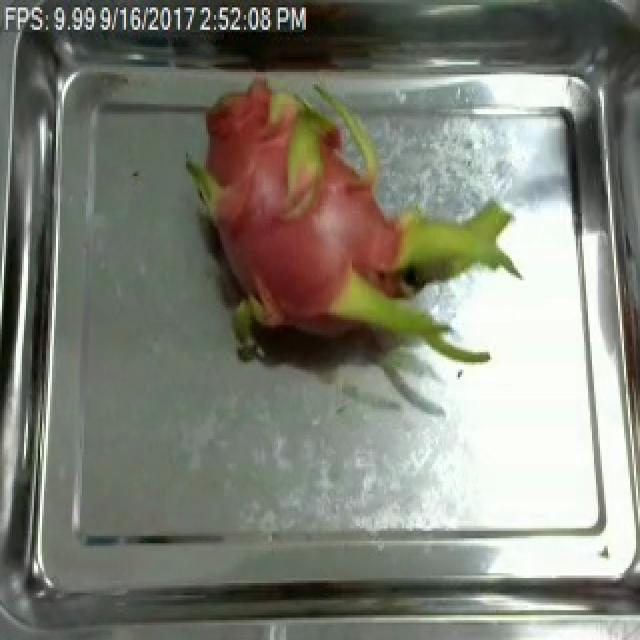fruit: (164, 52, 542, 390)
